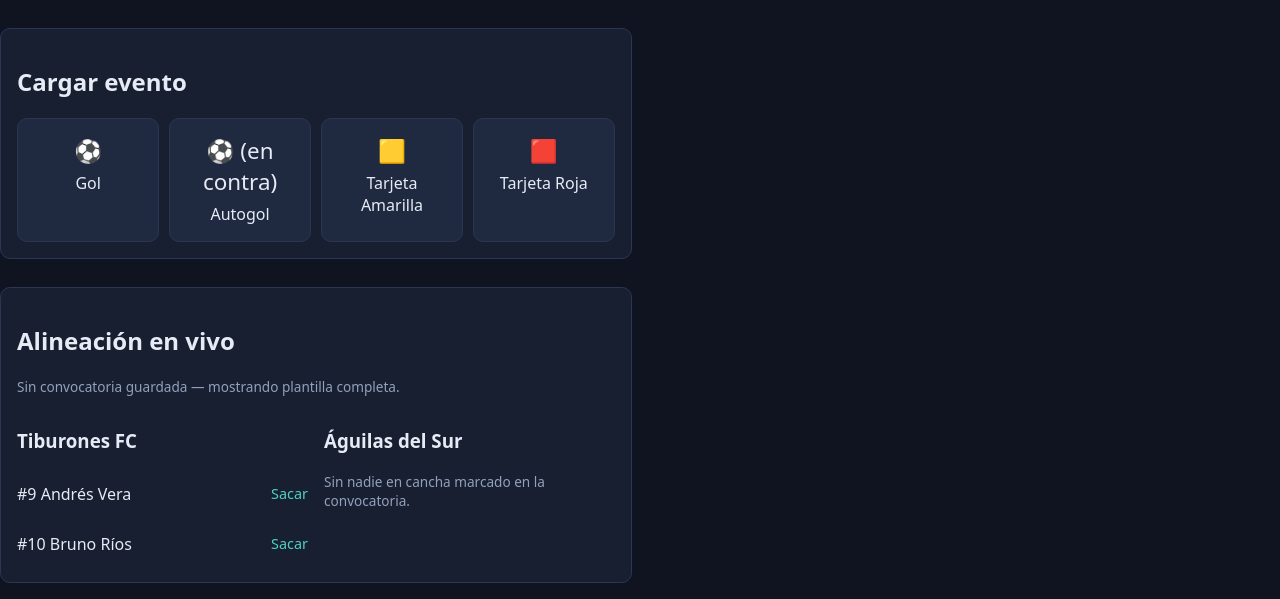
MesaPanel — offline-first (3B-1, docs/plans/cierre-backlog-todos-plan.md) › un 409 de conflicto de concurrencia al cargar un Cambio desde ModalSustitucion también se encola
(page scrolled)
Click the button "Sacar" in the row of "#9" at (290,494), box [271, 472, 308, 516]
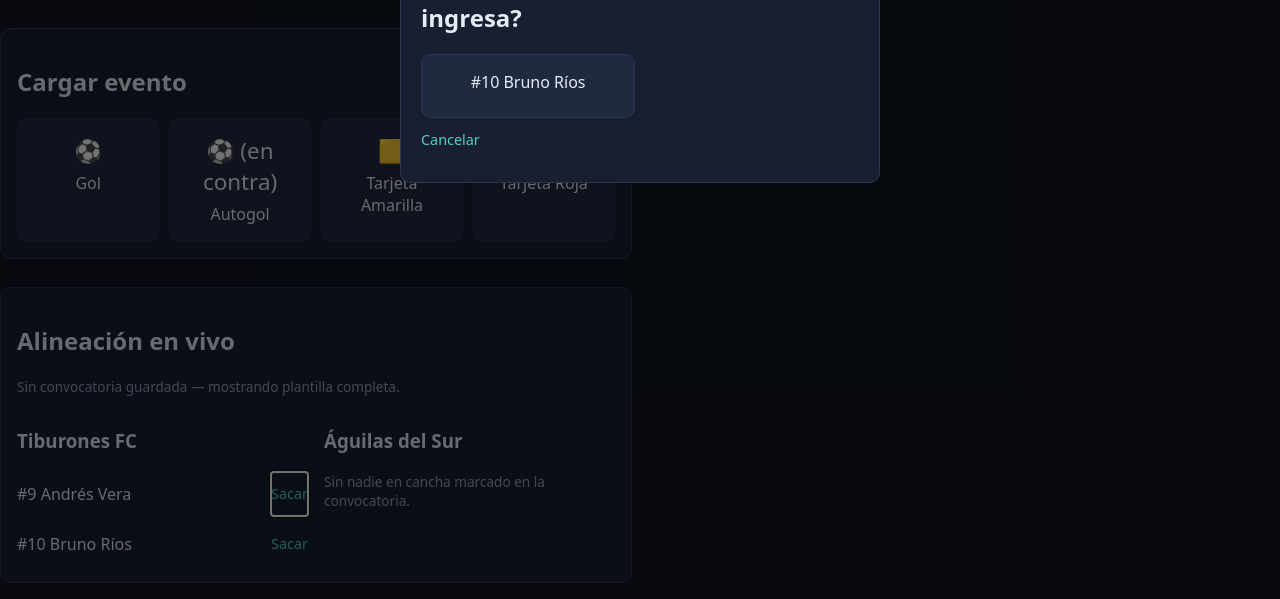
Click the button "#10 Bruno Ríos" at (528,86), box [421, 54, 635, 118]
(page scrolled)
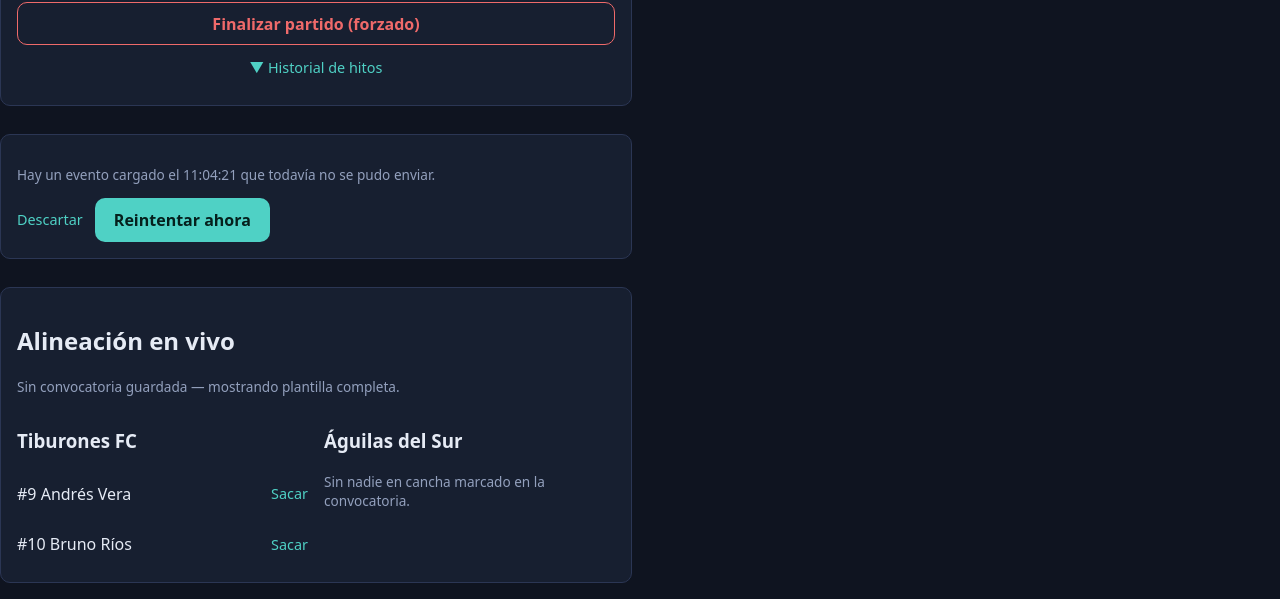
Check: the text "todavía no se pudo enviar" is shown, box [237, 165, 431, 184]
